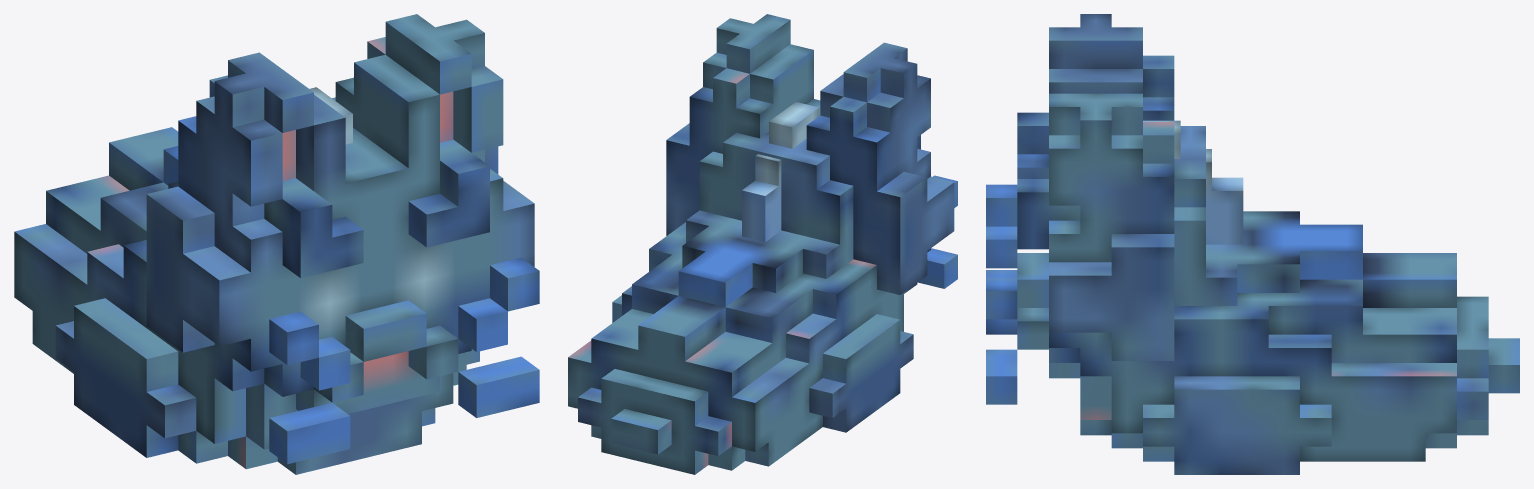
File: skin_14.fbx
3 views of the same model, side by side, from view 1: azimuth 30°, elevation 25°; view 2: azimuth 150°, elevation 25°; view 3: azimuth 270°, elevation 25° (orthographic). The views are drawn at different scales.
Visible parts, largest first — view 1: skin_14-5.001, skin_14-0.001; view 2: skin_14-5.001, skin_14-0.001; view 3: skin_14-5.001, skin_14-0.001.
Part boxes in pixels (<box>): skin_14-5.001: <box>14,14,539,474</box>; skin_14-0.001: <box>310,87,352,144</box>; skin_14-5.001: <box>568,14,957,474</box>; skin_14-0.001: <box>742,102,819,241</box>; skin_14-5.001: <box>986,14,1519,474</box>; skin_14-0.001: <box>1143,120,1243,244</box>.
Bounding box in the file's own units: 100 × 121 × 170.
